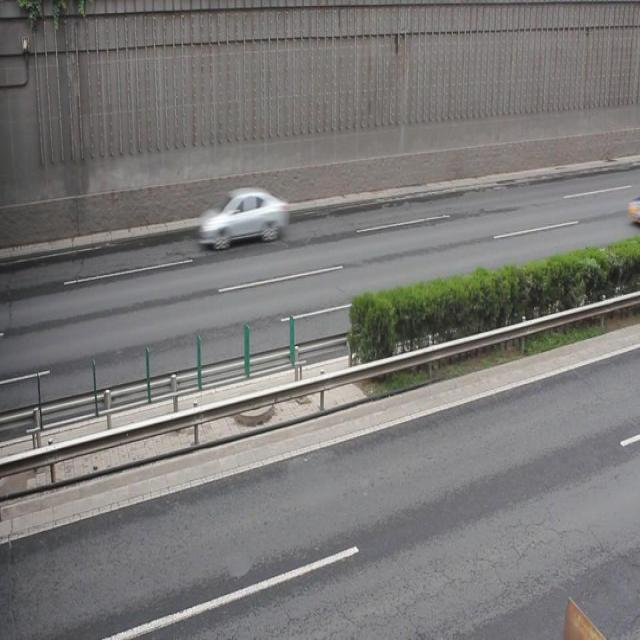car: (198, 187, 287, 246)
